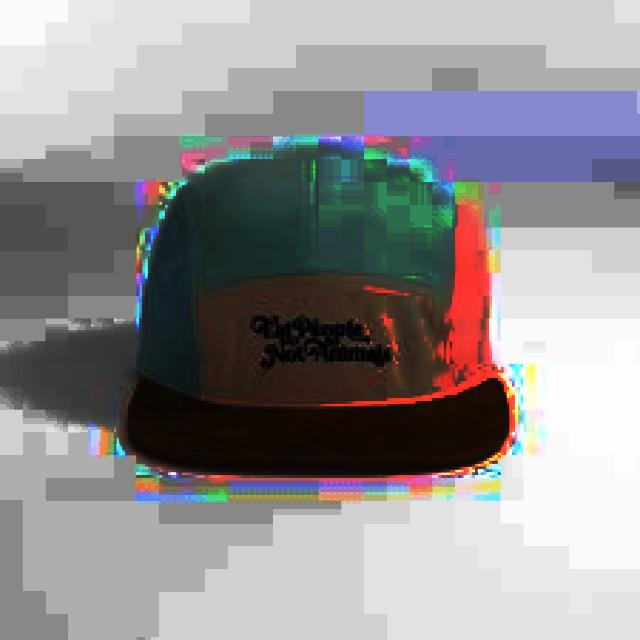TOPI: (117, 142, 514, 472)
